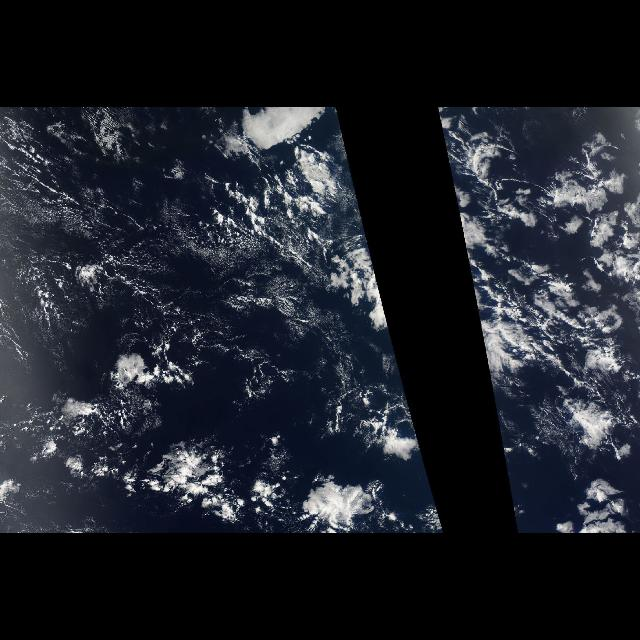Flower: (452, 125, 640, 453)
Gravel: (1, 113, 273, 344), (1, 348, 238, 512)
Sugar: (6, 120, 212, 346)
